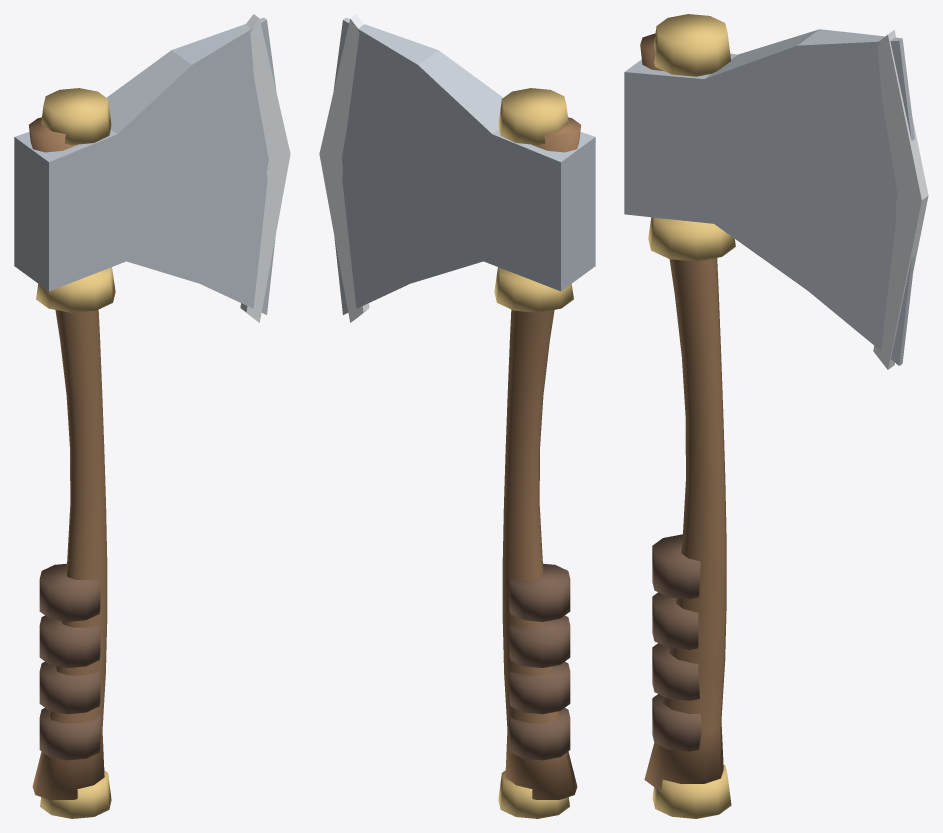
File: weapon_axe.glb
3 renders of one model, left to right at view 1: azimuth 30°, elevation 25°; view 2: azimuth 150°, elevation 25°; view 3: azimuth 330°, elevation 25°, orthographic. The views are drawn at different scales.
Parts seen in each view (by area): view 1: weapon_axe; view 2: weapon_axe; view 3: weapon_axe.
Boxes of the visible parts, x1,y1,x2,y2 form: weapon_axe: [14, 14, 290, 818]; weapon_axe: [319, 14, 595, 818]; weapon_axe: [624, 14, 928, 818].
Bounding box in the file's own units: 0.2909 × 0.805 × 0.08.
